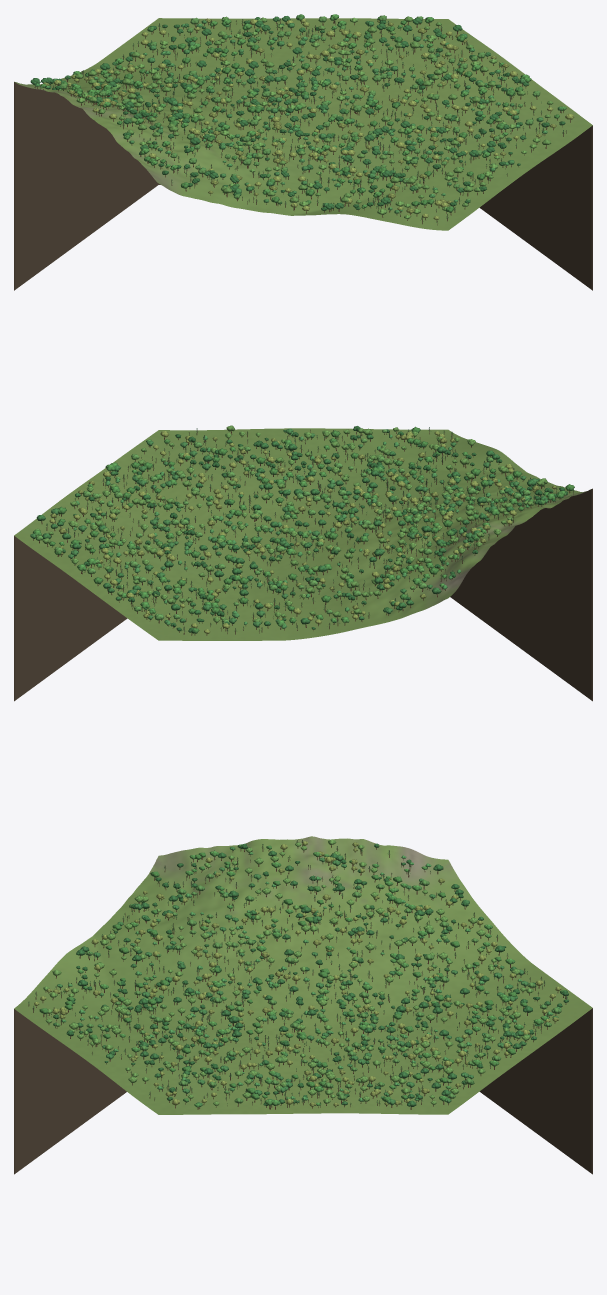
The picture shows the model from 3 angles, top to bottom: view 1: azimuth 30°, elevation 25°; view 2: azimuth 150°, elevation 25°; view 3: azimuth 270°, elevation 25°; orthographic projection.
Parts seen in each view (by area): view 1: terrain, broadleaf_canopy, hex_side_cut, trunks, conifer_canopy; view 2: terrain, broadleaf_canopy, hex_side_cut, trunks, conifer_canopy; view 3: terrain, broadleaf_canopy, hex_side_cut, trunks, conifer_canopy.
Boxes of the visible parts, x1=… form: terrain: x1=14, y1=18, x2=592, y2=230; broadleaf_canopy: x1=30, y1=14, x2=574, y2=219; hex_side_cut: x1=14, y1=82, x2=592, y2=290; trunks: x1=34, y1=19, x2=570, y2=225; conifer_canopy: x1=40, y1=19, x2=566, y2=222; terrain: x1=14, y1=428, x2=591, y2=640; broadleaf_canopy: x1=30, y1=425, x2=574, y2=633; hex_side_cut: x1=14, y1=488, x2=592, y2=701; trunks: x1=33, y1=429, x2=573, y2=635; conifer_canopy: x1=46, y1=427, x2=573, y2=631; terrain: x1=14, y1=836, x2=592, y2=1114; broadleaf_canopy: x1=34, y1=839, x2=568, y2=1107; hex_side_cut: x1=14, y1=1008, x2=592, y2=1174; trunks: x1=28, y1=840, x2=566, y2=1109; conifer_canopy: x1=28, y1=840, x2=567, y2=1106.
Bounding box in the file's own units: 4330 × 2230 × 5000.
6 materials, 1 textured.
